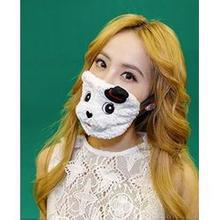OK: (78, 50, 156, 127)
